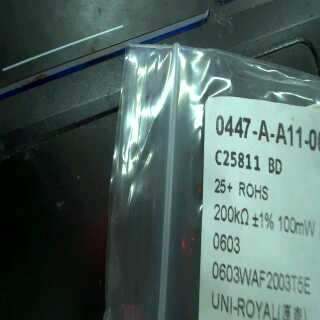200kR: (211, 204, 251, 227)
